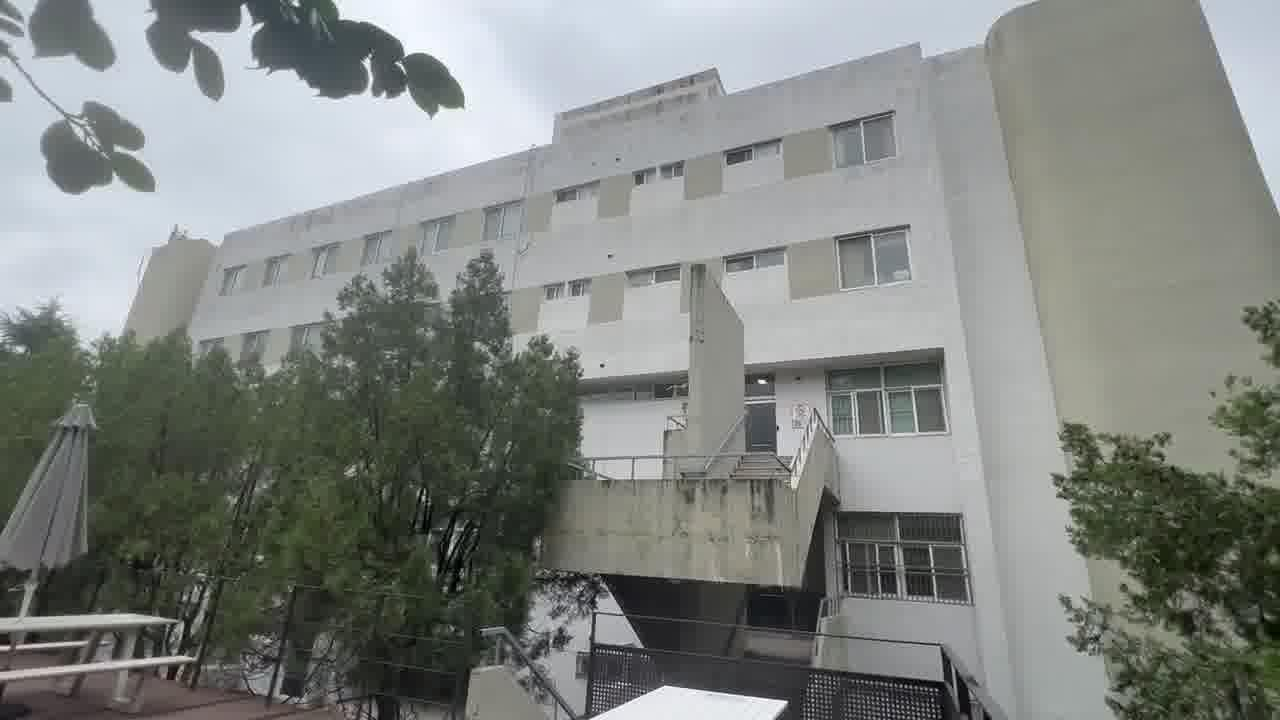building: (583, 80, 1024, 580)
